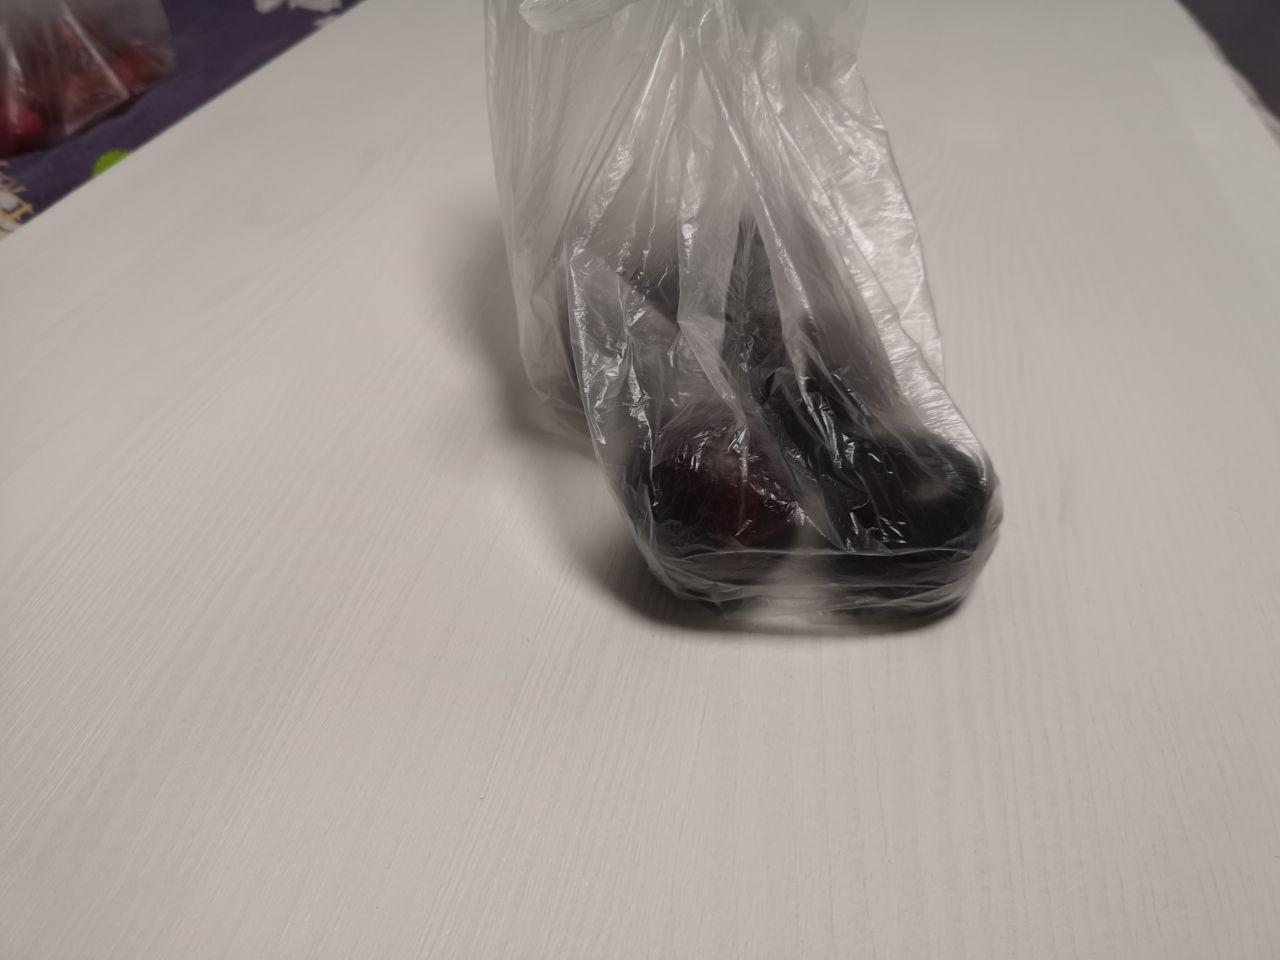plum: (372, 131, 1111, 691)
